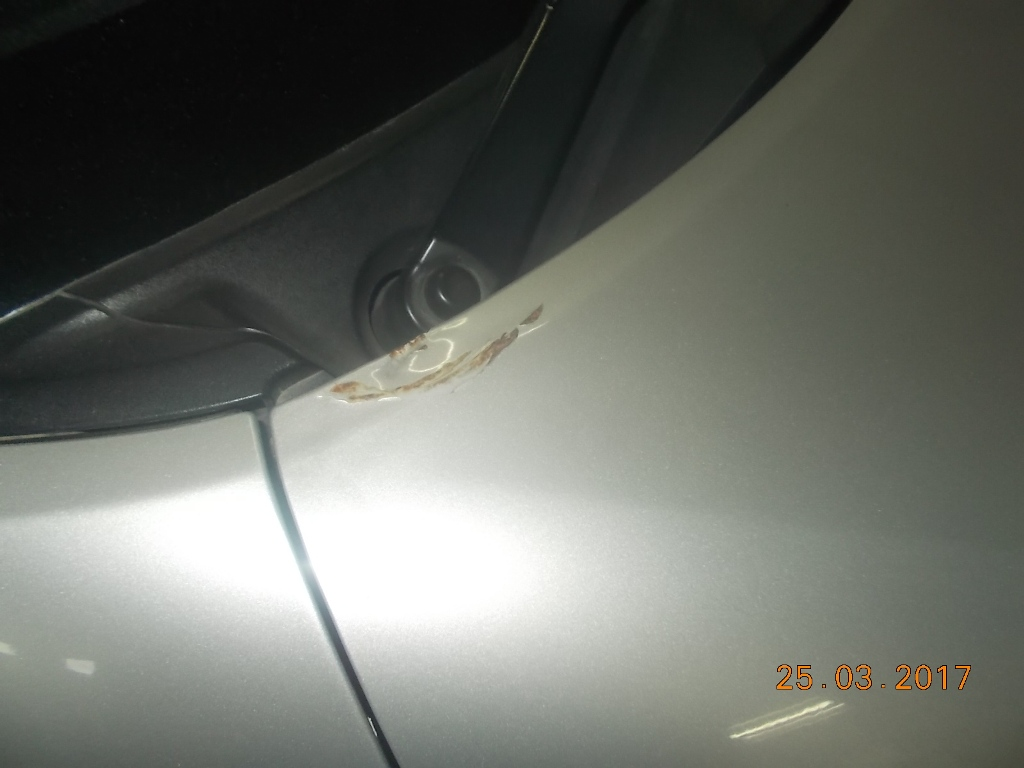Scratch_or_spot: (465, 320, 544, 377), (365, 362, 453, 412)
